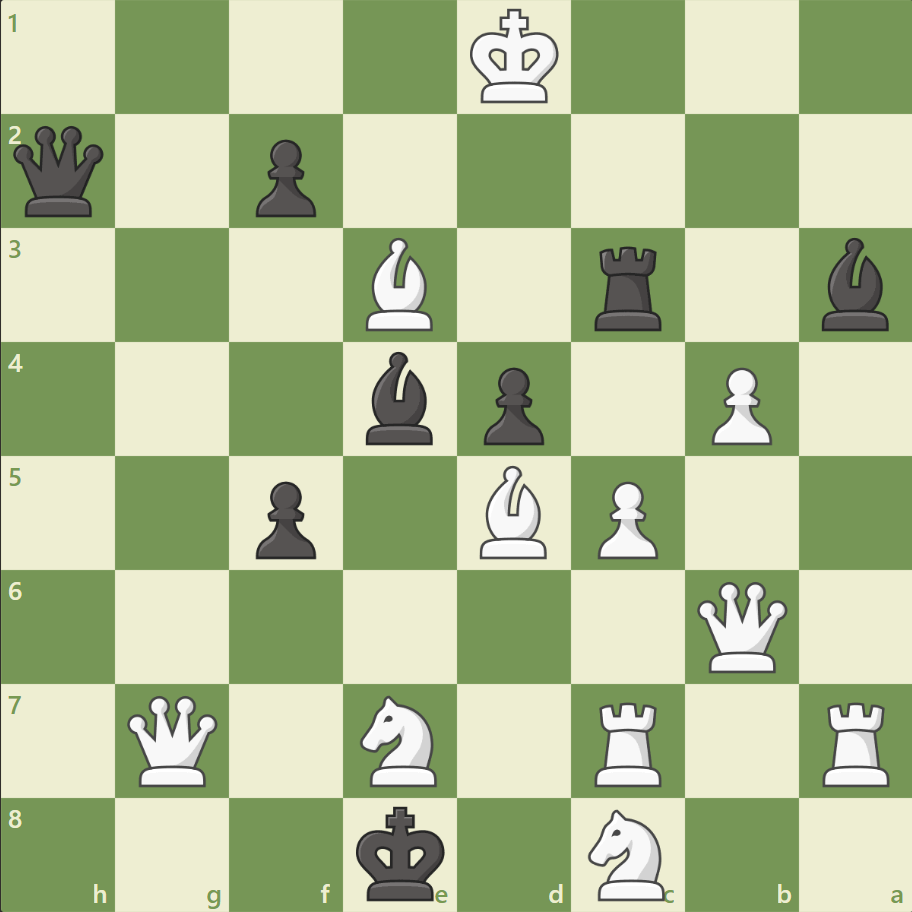B: (471, 460, 555, 563), (358, 233, 442, 336)
K: (465, 4, 565, 112)
N: (351, 688, 449, 791), (579, 802, 676, 904)
P: (701, 359, 776, 450), (588, 473, 662, 564)
Q: (691, 576, 790, 676), (124, 690, 223, 789)
R: (814, 693, 897, 790), (587, 693, 670, 790)
b: (812, 233, 896, 336), (358, 347, 442, 449)
k: (351, 798, 451, 906)
p: (247, 473, 322, 564), (474, 359, 549, 450), (247, 132, 322, 223)
q: (10, 122, 109, 222)
r: (587, 239, 670, 336)
